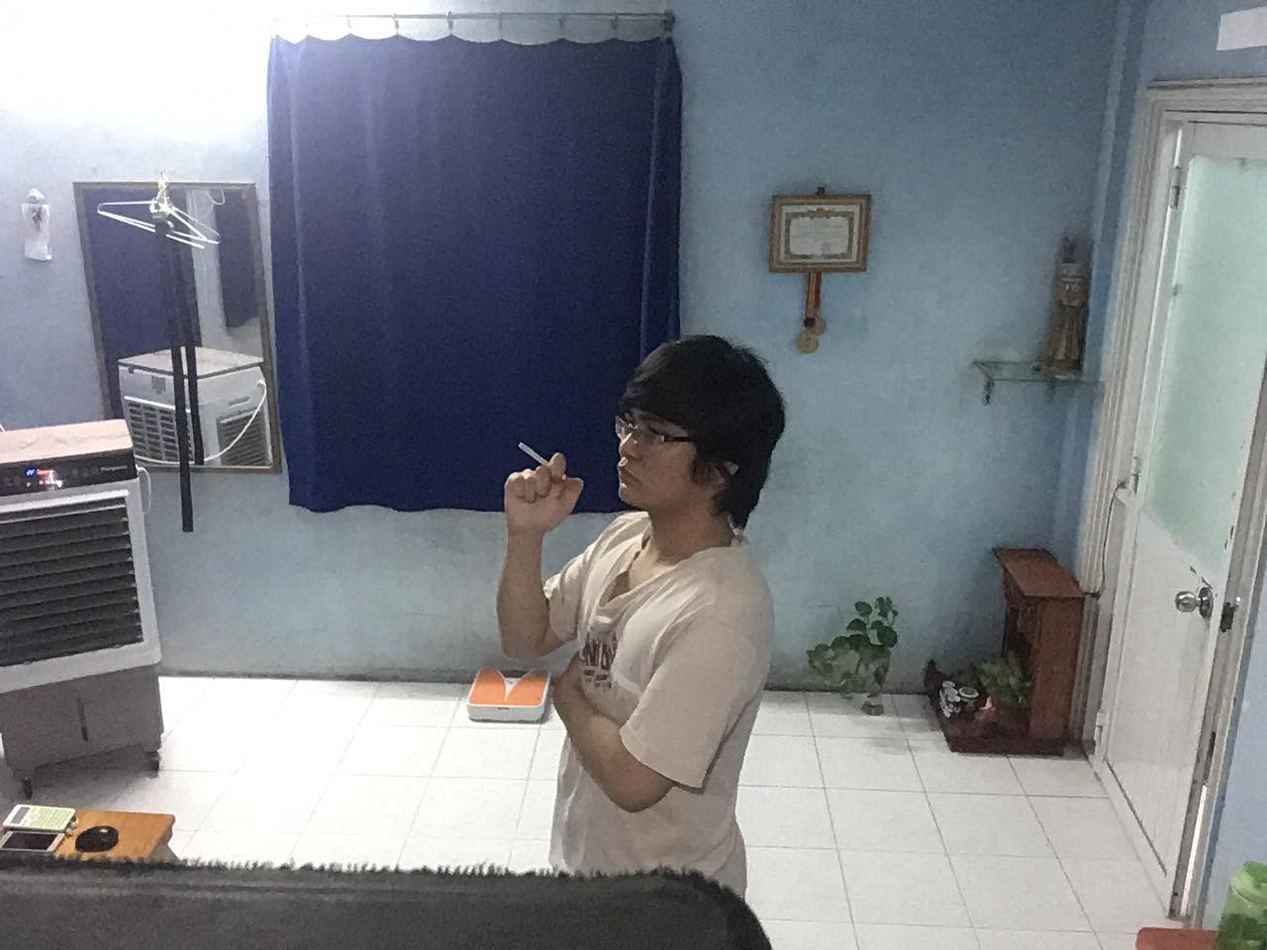cigarette: (514, 439, 548, 469)
person: (477, 326, 789, 930)
